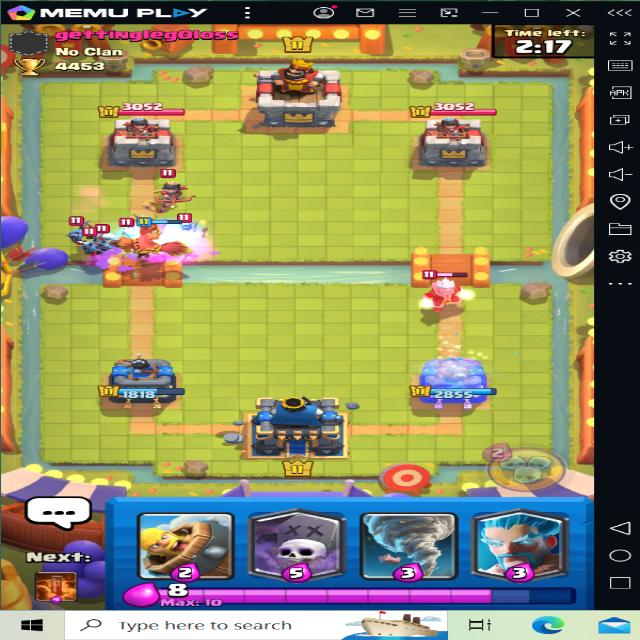Icewizard: (411, 267, 476, 314)
Minions: (55, 216, 109, 242), (70, 226, 106, 262)
Princess: (139, 168, 195, 210)
Skeleton: (96, 217, 121, 245), (173, 215, 203, 236)
